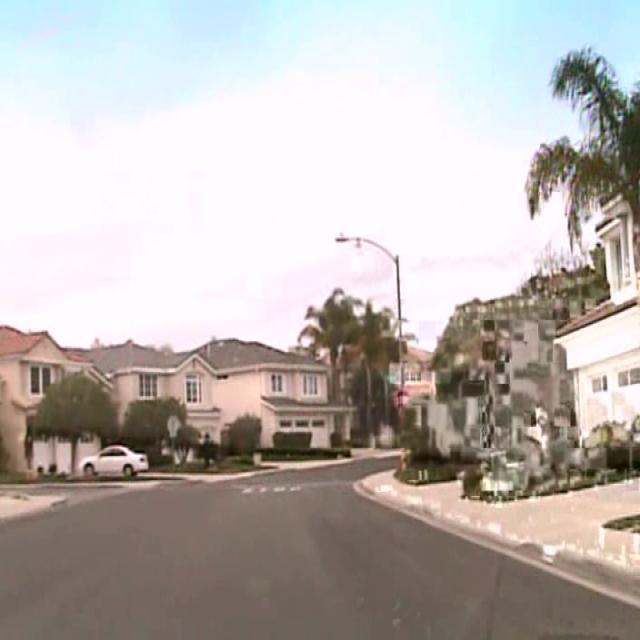stop: (393, 388, 410, 412)
